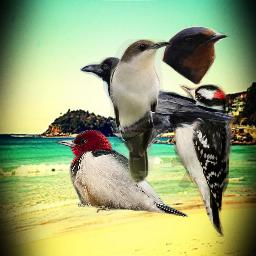Crow: (80, 57, 236, 153)
Cuckoo: (110, 39, 172, 185)
Swallow: (161, 25, 230, 85)
Woodpecker: (54, 130, 189, 217), (171, 84, 232, 237)
